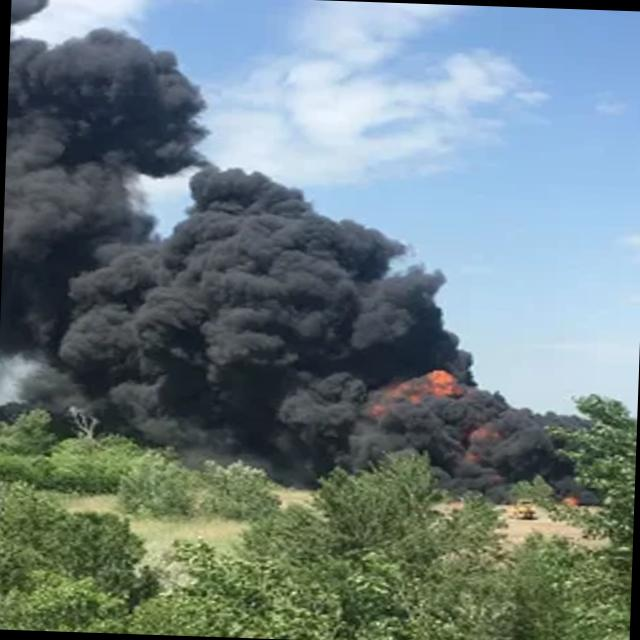Smoke: (0, 0, 636, 506)
